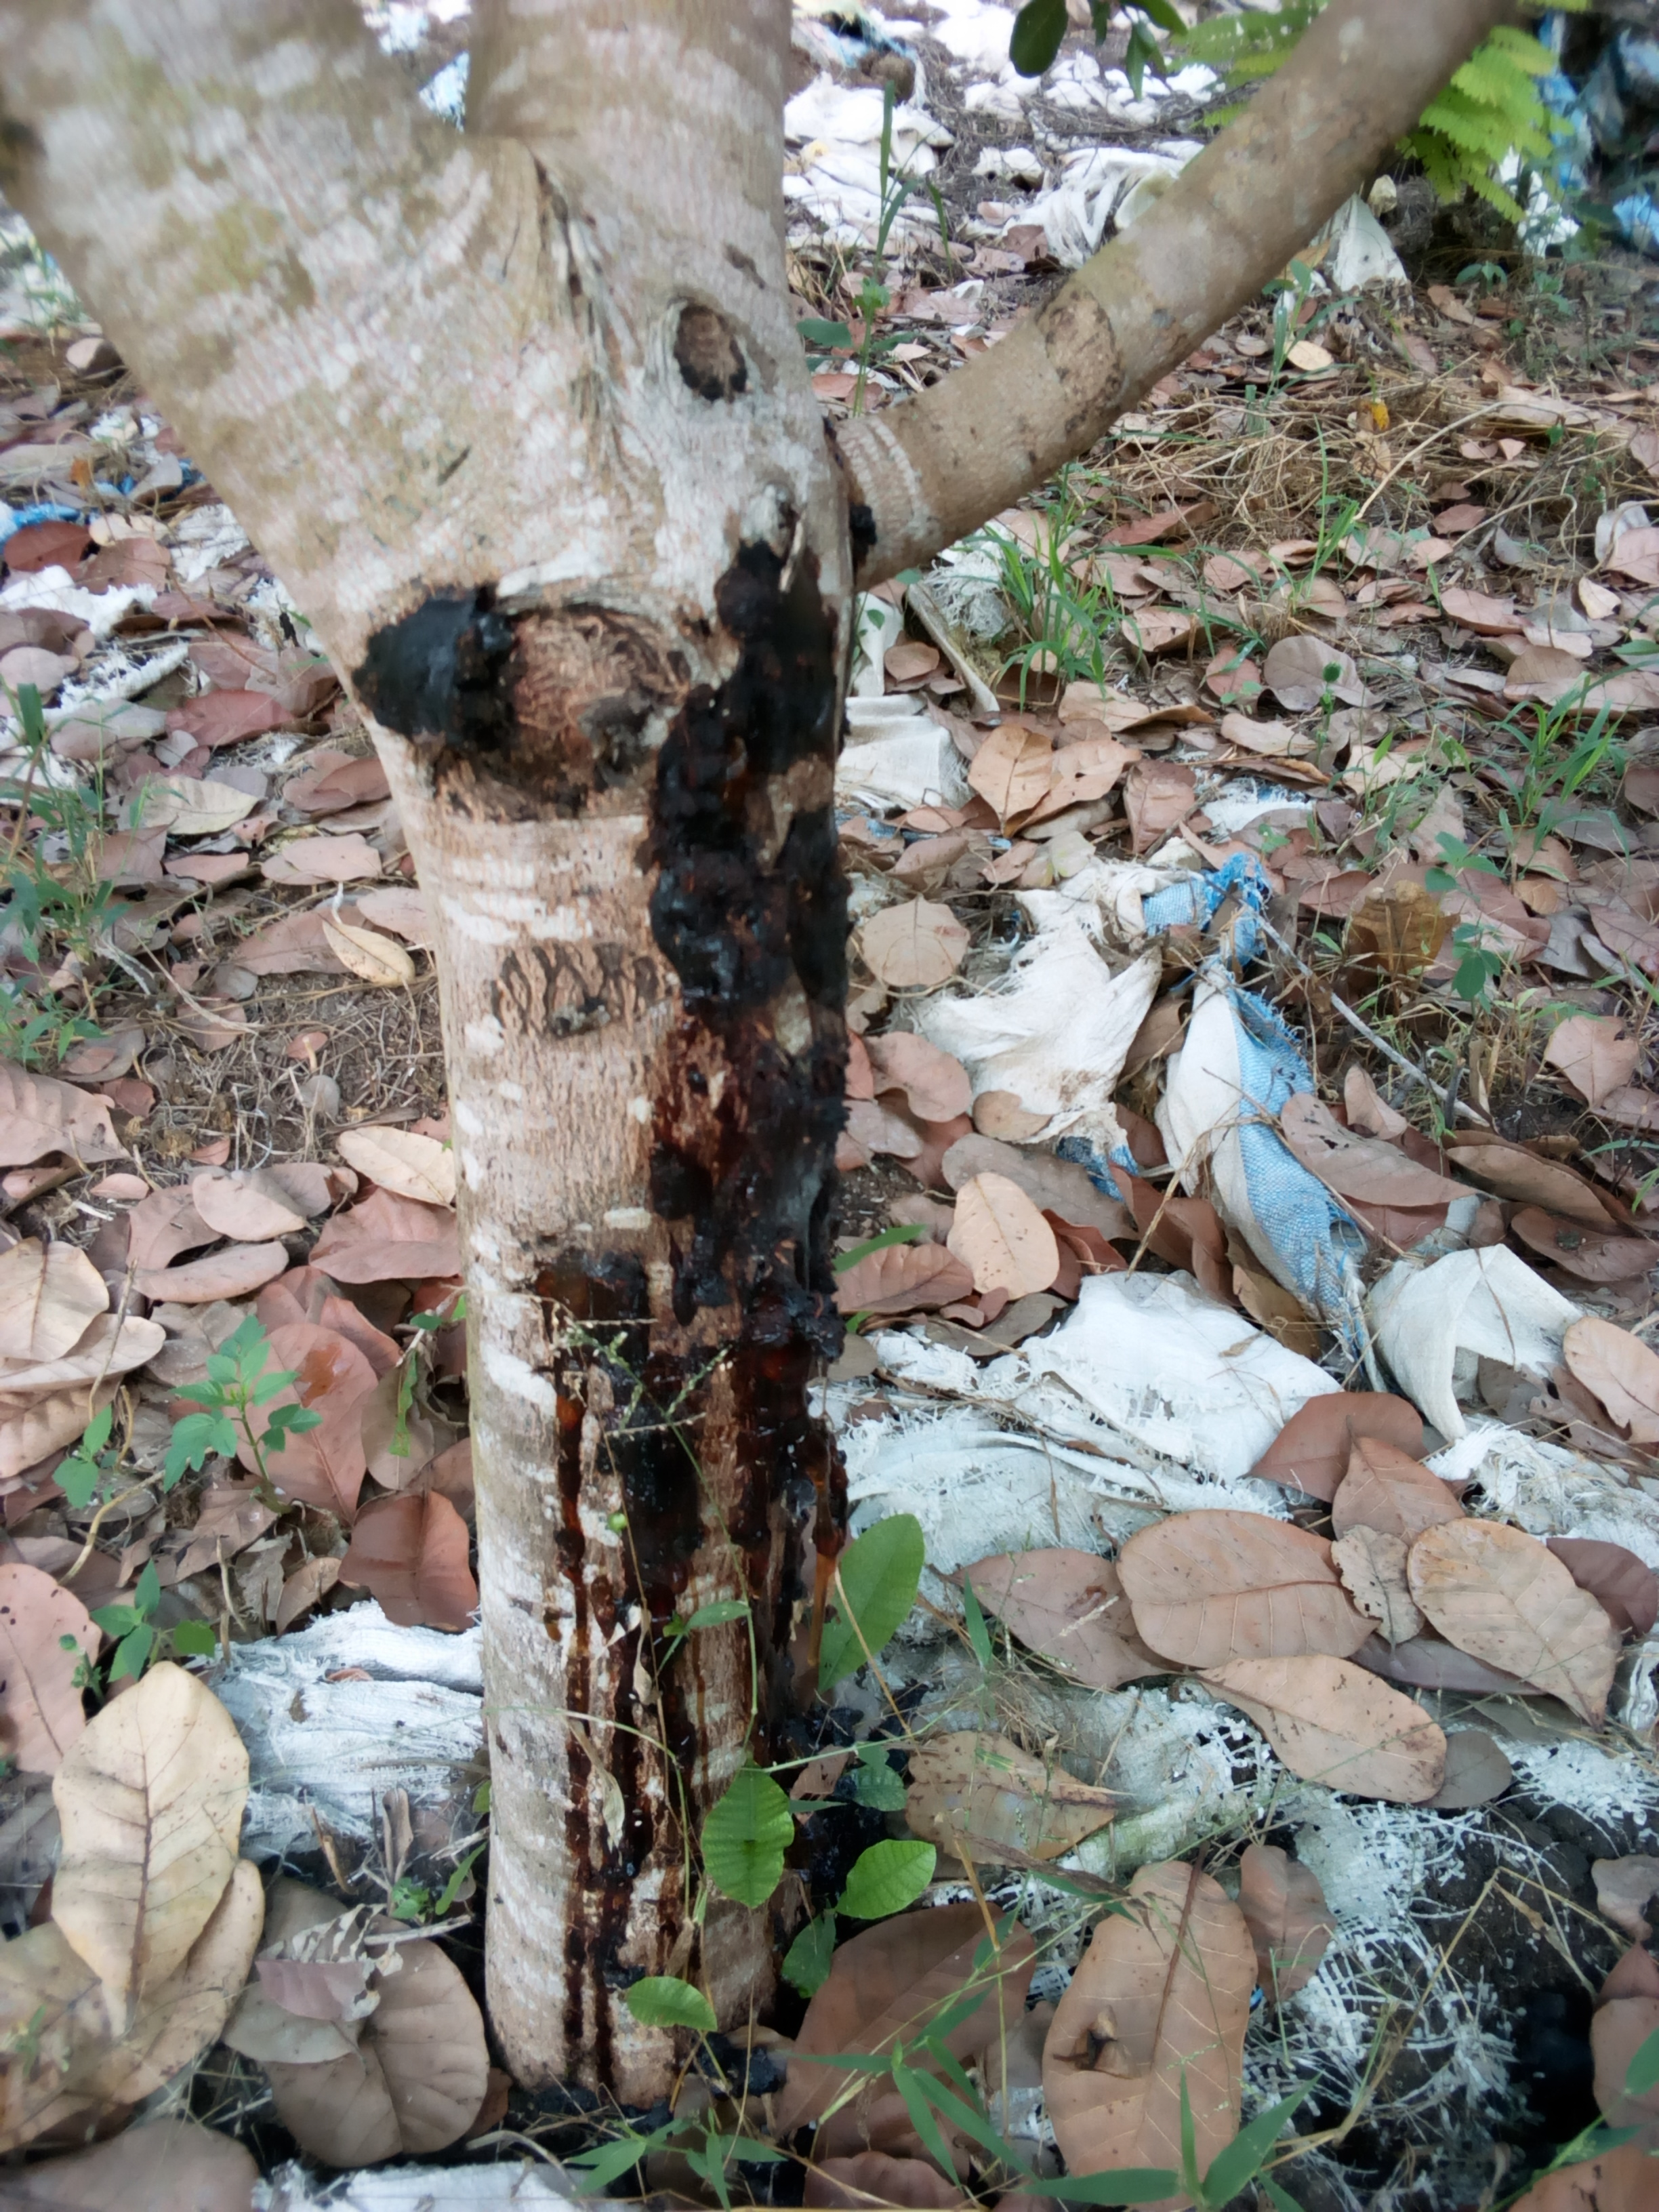Mecocorynus longiceps: (606, 526, 992, 1637)
